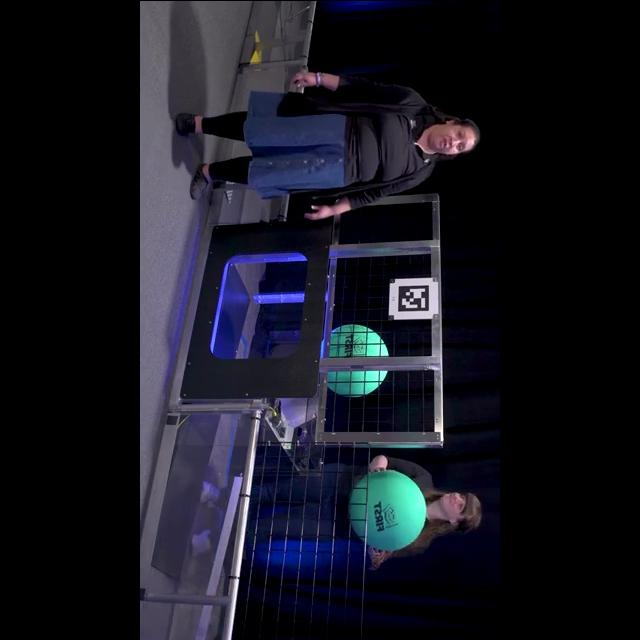ALGAE: (348, 469, 428, 551), (326, 323, 389, 397)
